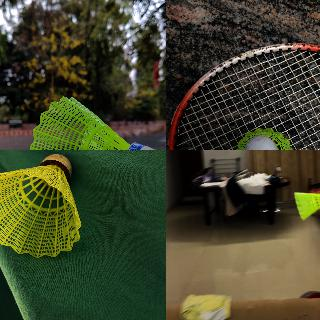shuttlecock: (0, 154, 81, 259), (29, 96, 165, 149), (235, 127, 294, 149), (293, 191, 319, 220)
